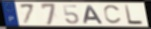5: (62, 4, 81, 25)
7: (39, 3, 58, 26), (20, 3, 36, 25)
A: (84, 5, 105, 25)
C: (103, 4, 123, 25)
L: (124, 5, 145, 26)
